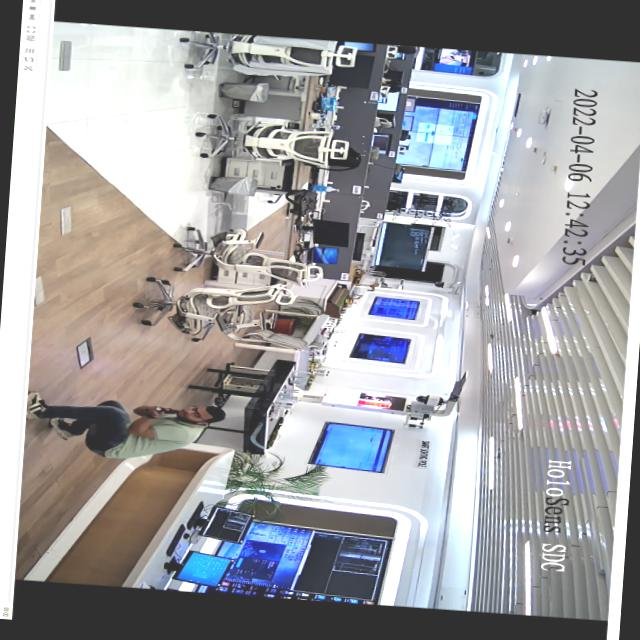long weapon: (137, 402, 186, 424)
